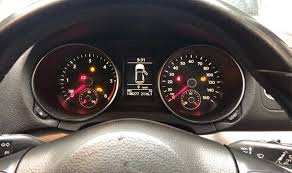Digital_Meter: (125, 88, 153, 95)
